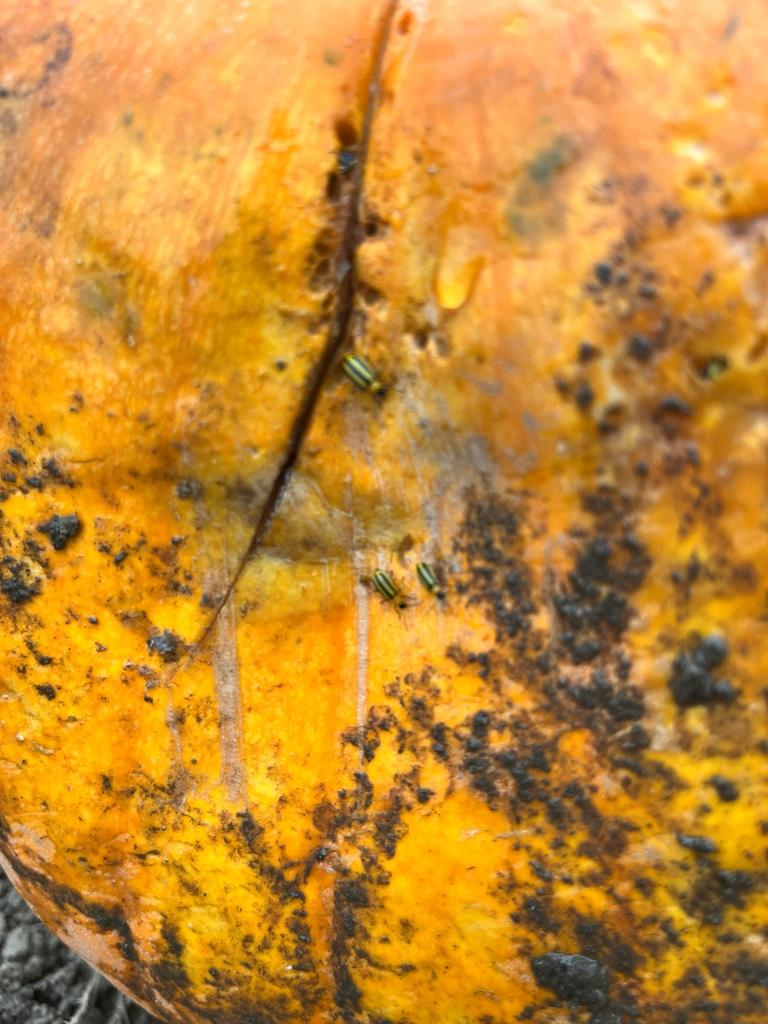potato_beetle: (332, 340, 415, 420), (408, 540, 470, 618), (360, 555, 413, 622)
